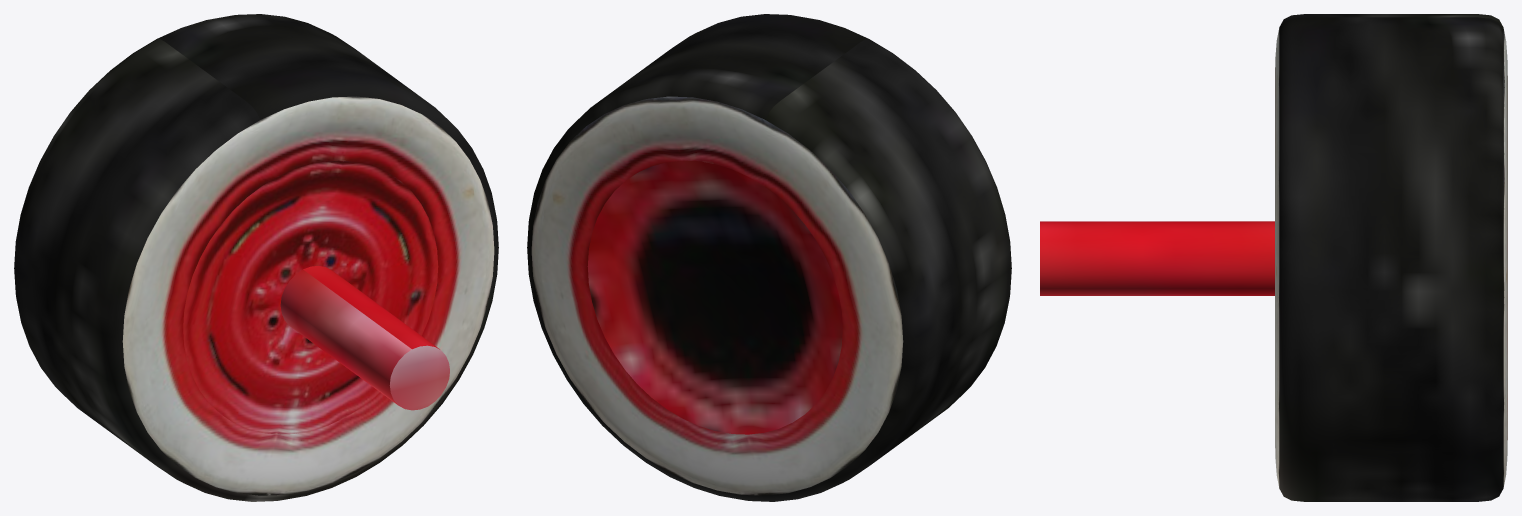
File: LlantaTIz.obj
The picture shows the model from 3 angles, left to right: view 1: azimuth 30°, elevation 25°; view 2: azimuth 150°, elevation 25°; view 3: azimuth 270°, elevation 25°; orthographic projection. The views are drawn at different scales.
Visible parts, largest first — view 1: LlantaTIz; view 2: LlantaTIz; view 3: LlantaTIz.
Boxes of the visible parts, bbox=[...] form: LlantaTIz: bbox=[14, 14, 498, 501]; LlantaTIz: bbox=[527, 14, 1011, 501]; LlantaTIz: bbox=[1040, 14, 1507, 501].
Size of the model in its own units: 2.77 by 2.77 by 2.65.
